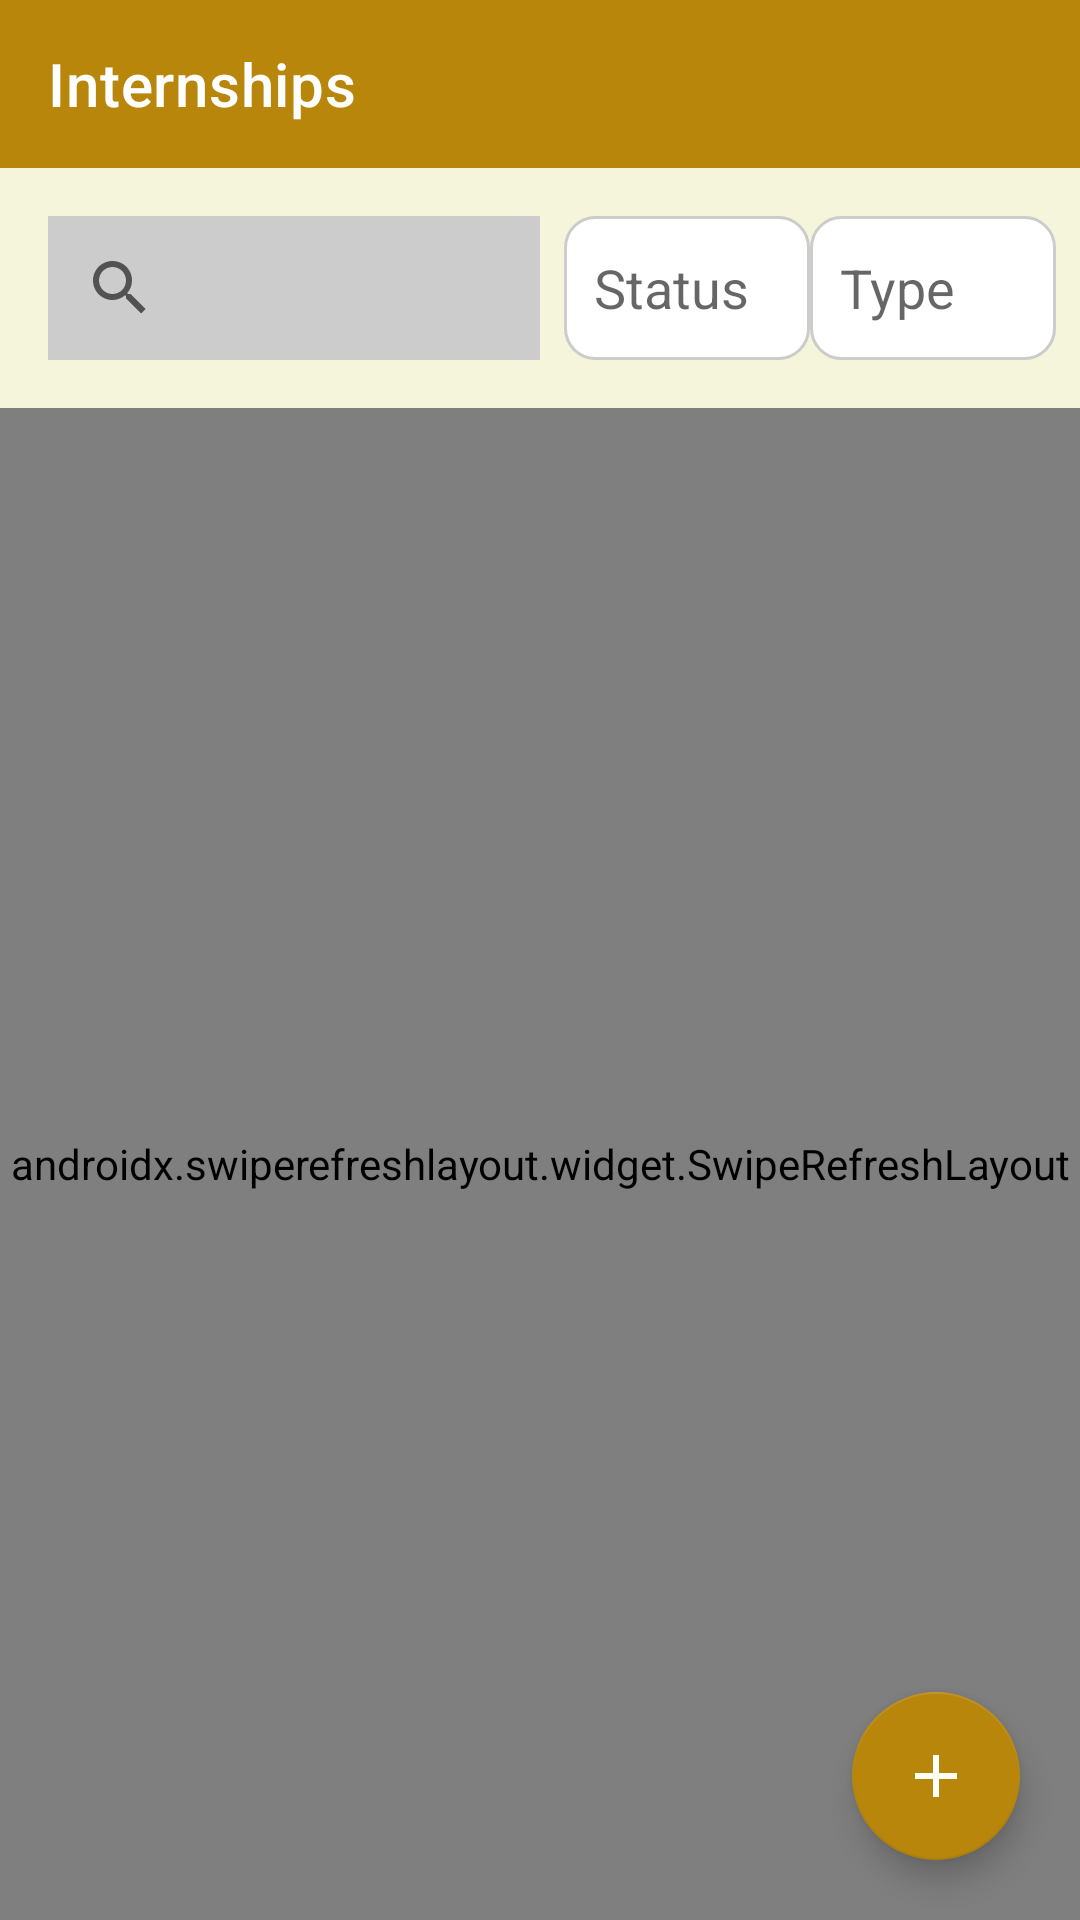

Locate icon controls on the screen. Image size 1080×1920, boxes as (x1, y1, x2, y2).
Add Internship: (852, 1692, 1020, 1860)
